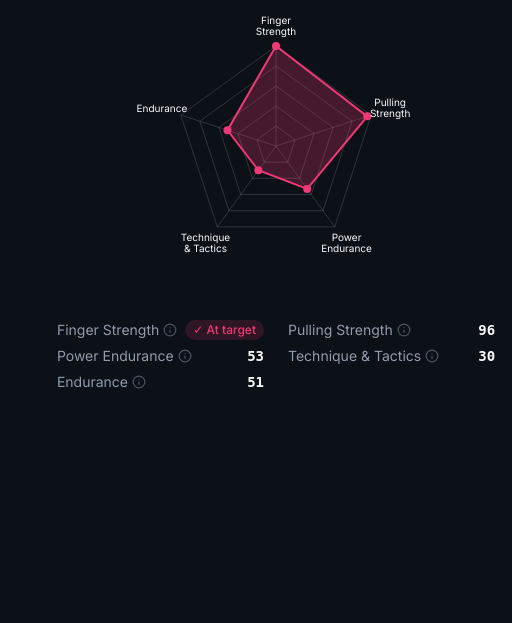
tooltips › frames Goal-mode copy against the target grade
Click the button named "Info about Finger Strength" at (170, 330), box x1=163 y1=323 x2=177 y2=337
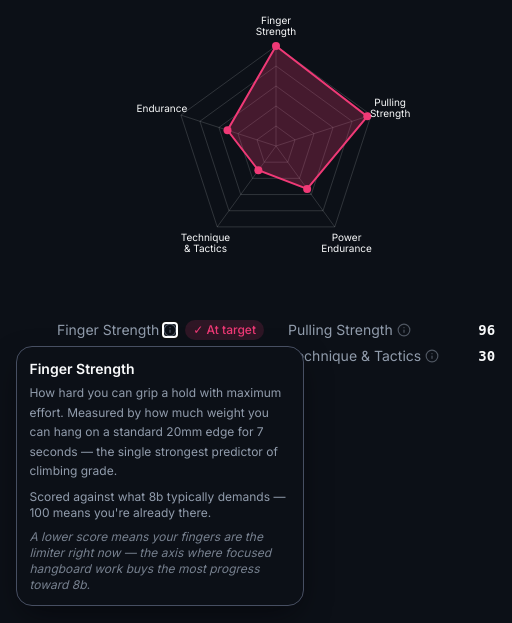
Result: the tooltip shows "8b" at x1=30 y1=488 x2=286 y2=520
Result: the tooltip shows "100 means you're already there" at x1=30 y1=488 x2=286 y2=520
